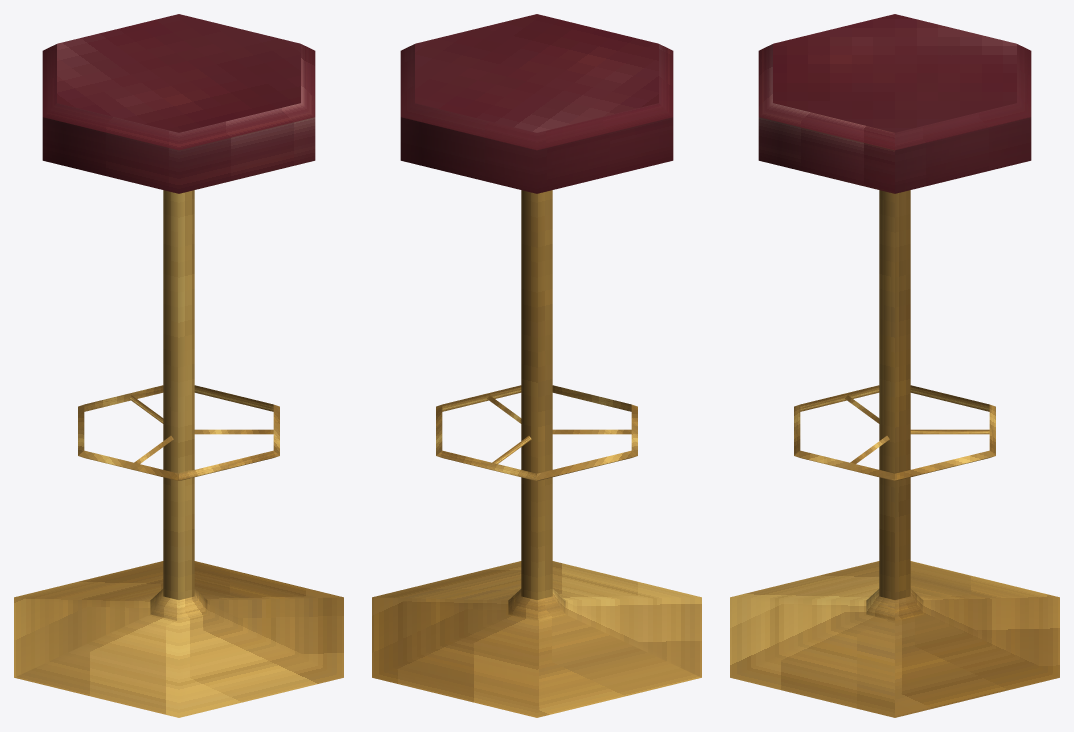
File: burgundy-pedestal-bar-stool.glb
The picture shows the model from 3 angles, left to right: view 1: azimuth 30°, elevation 25°; view 2: azimuth 150°, elevation 25°; view 3: azimuth 270°, elevation 25°; orthographic projection.
Visible parts, largest first — view 1: burgundy-pedestal-bar-stool; view 2: burgundy-pedestal-bar-stool; view 3: burgundy-pedestal-bar-stool.
Boxes of the visible parts, bbox=[...] form: burgundy-pedestal-bar-stool: bbox=[14, 14, 343, 717]; burgundy-pedestal-bar-stool: bbox=[372, 14, 701, 717]; burgundy-pedestal-bar-stool: bbox=[730, 14, 1059, 717].
Bounding box in the file's own units: 0.46 × 0.752 × 0.3984.
Materials: 1 (1 with a texture image).
